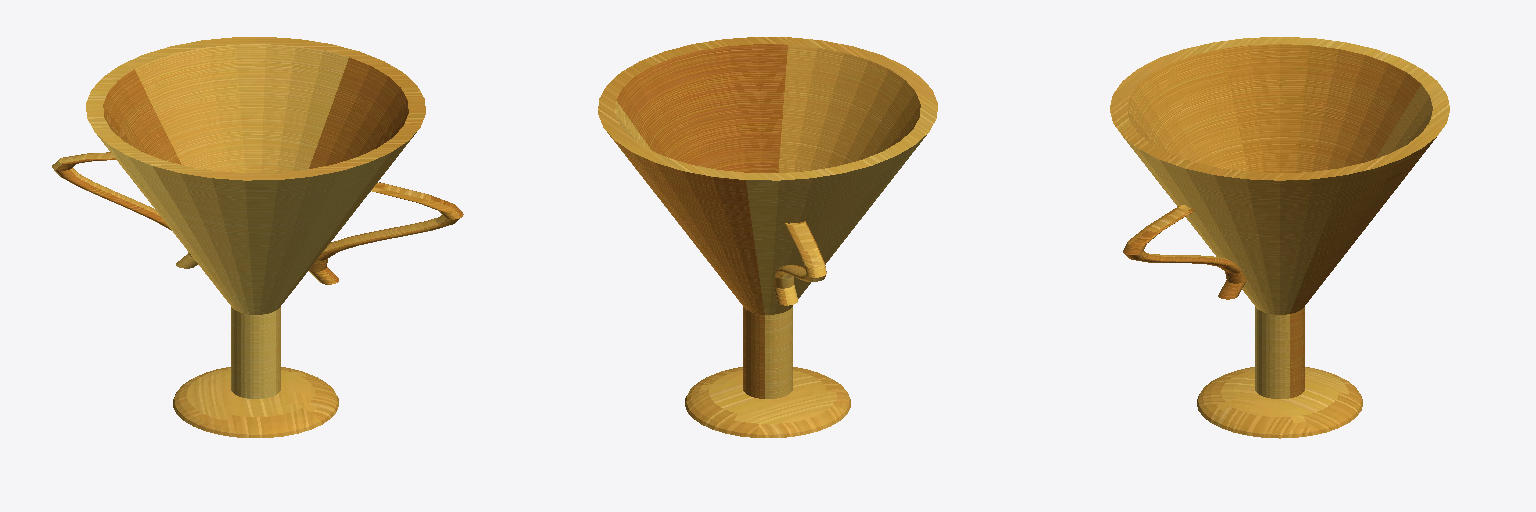
3 renders of one model, left to right at view 1: azimuth 30°, elevation 25°; view 2: azimuth 150°, elevation 25°; view 3: azimuth 270°, elevation 25°, orthographic.
Visible parts, largest first — view 1: Esfera.005_Esfera.001; view 2: Esfera.005_Esfera.001; view 3: Esfera.005_Esfera.001.
Part boxes in pixels (x1,y1,x2,y2): Esfera.005_Esfera.001: (52, 37, 463, 437); Esfera.005_Esfera.001: (598, 37, 937, 437); Esfera.005_Esfera.001: (1110, 37, 1449, 438).
Bounding box in the file's own units: 2.51 × 2.39 × 2.51.
1 materials, 1 textured.